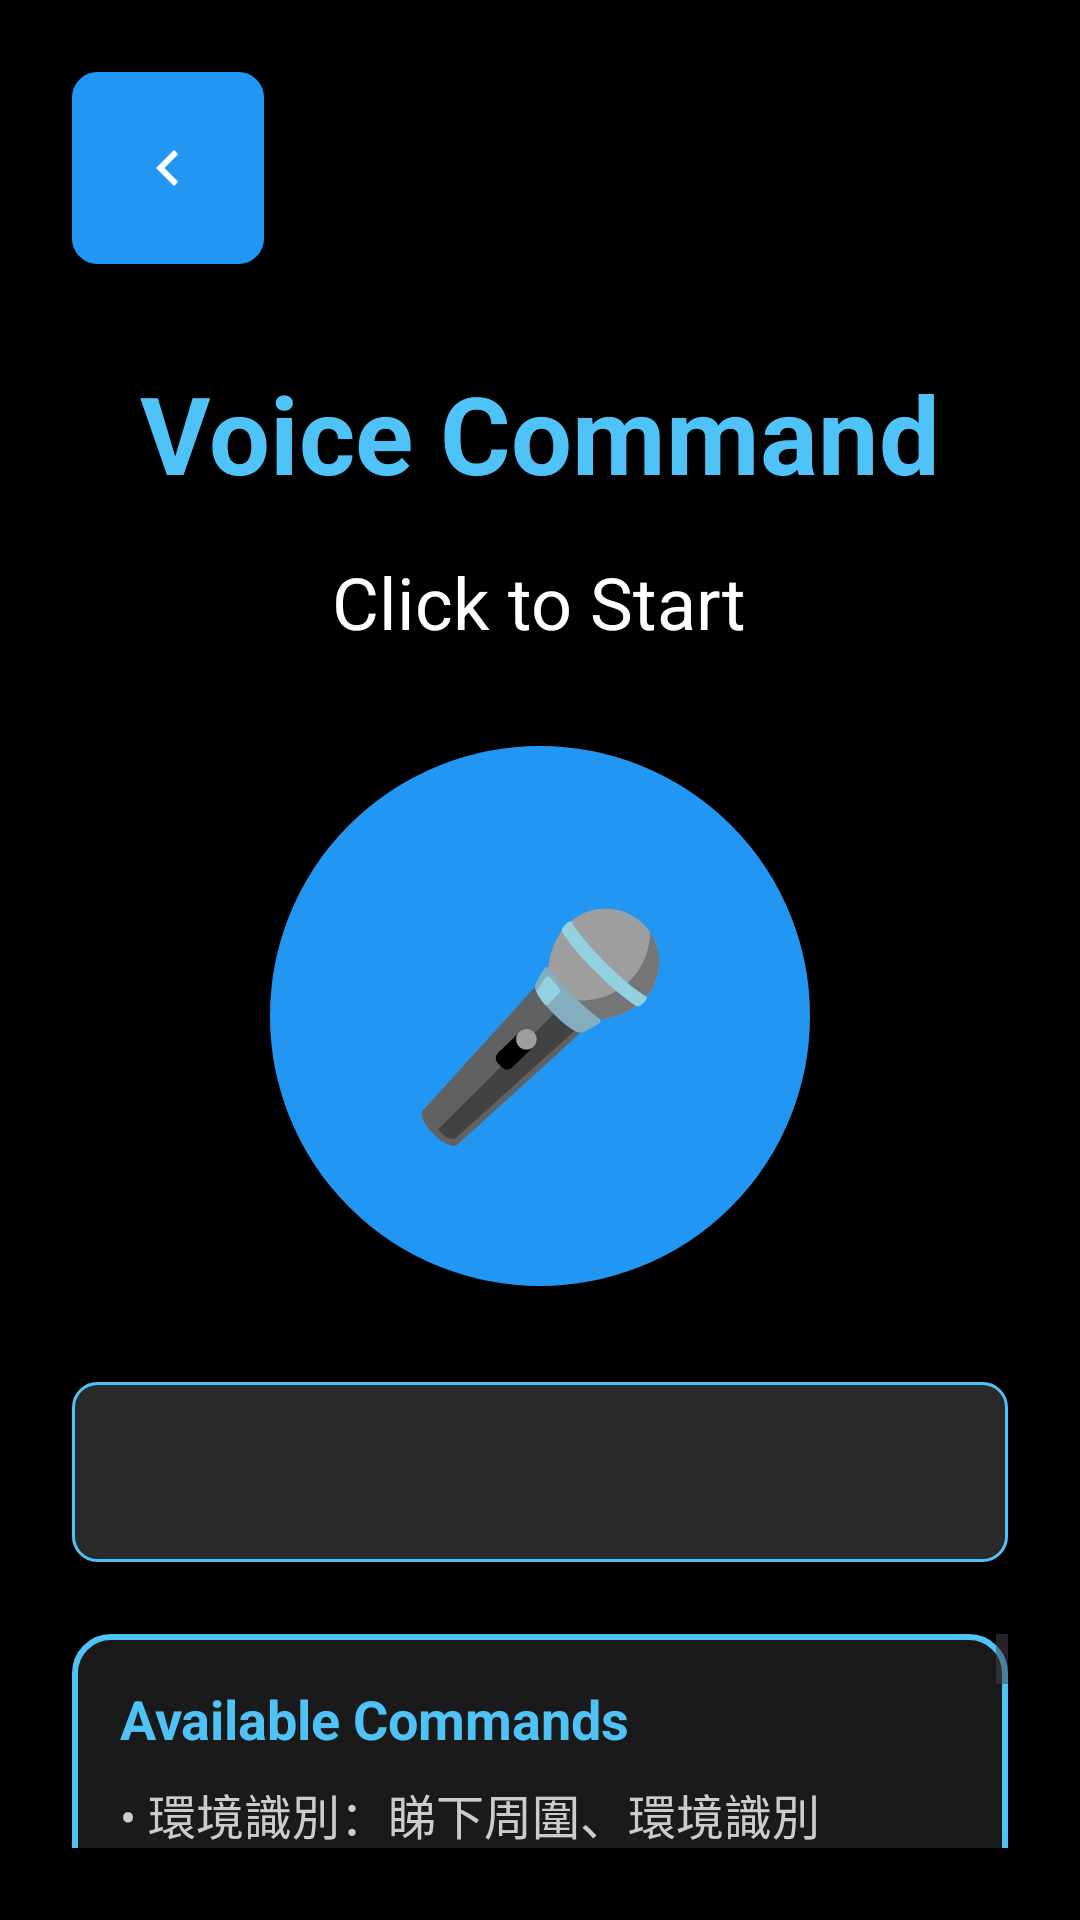

Named icons in this screenshot (1080px×1920px) and their centers, (x,y):
Back Button: (168,168)
